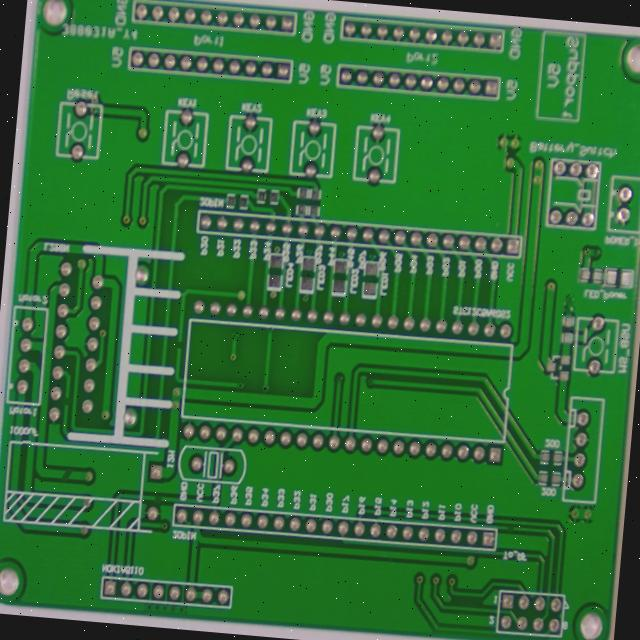open_circuit: (16, 515, 38, 533), (141, 371, 153, 389), (116, 543, 131, 557), (21, 434, 31, 451), (493, 577, 505, 587)
